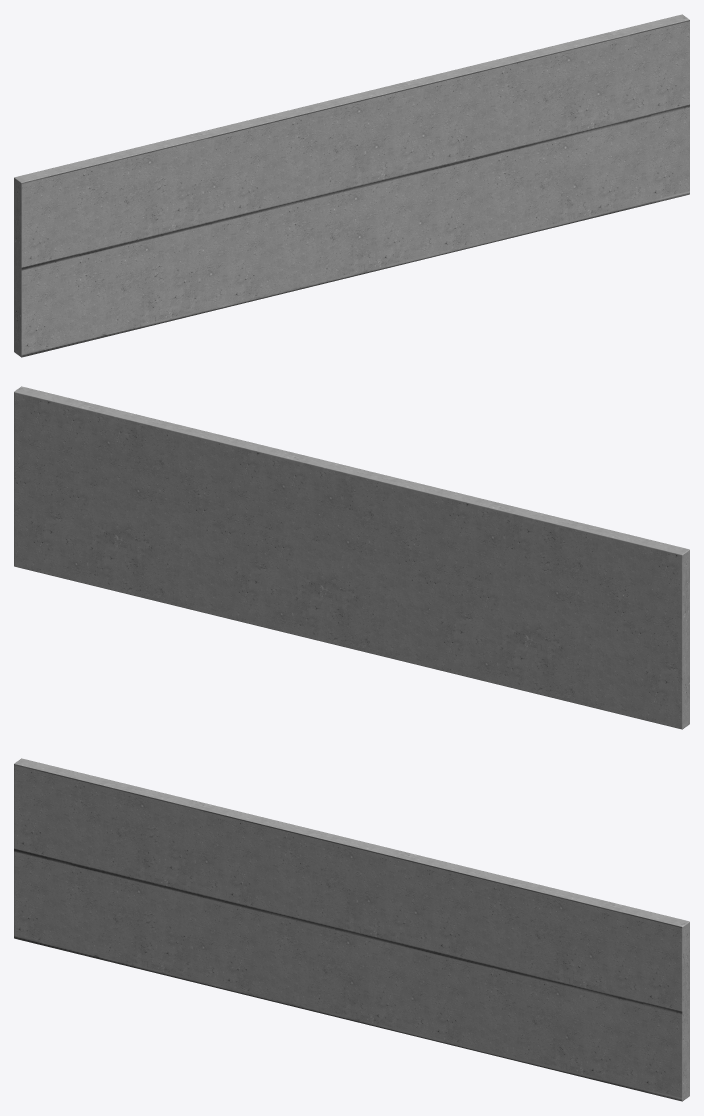
Rendered from Minimalist.glb.
3 renders of one model, top to bottom at view 1: azimuth 30°, elevation 25°; view 2: azimuth 150°, elevation 25°; view 3: azimuth 330°, elevation 25°, orthographic.
Visible parts, largest first — view 1: Box004; view 2: Box004; view 3: Box004.
Boxes of the visible parts, x1,y1,x2,y2 form: Box004: [14, 14, 689, 357]; Box004: [14, 386, 689, 729]; Box004: [14, 758, 689, 1101].
Size of the model in its own units: 2 by 0.5 by 0.04.
Materials: 1 (1 with a texture image).
